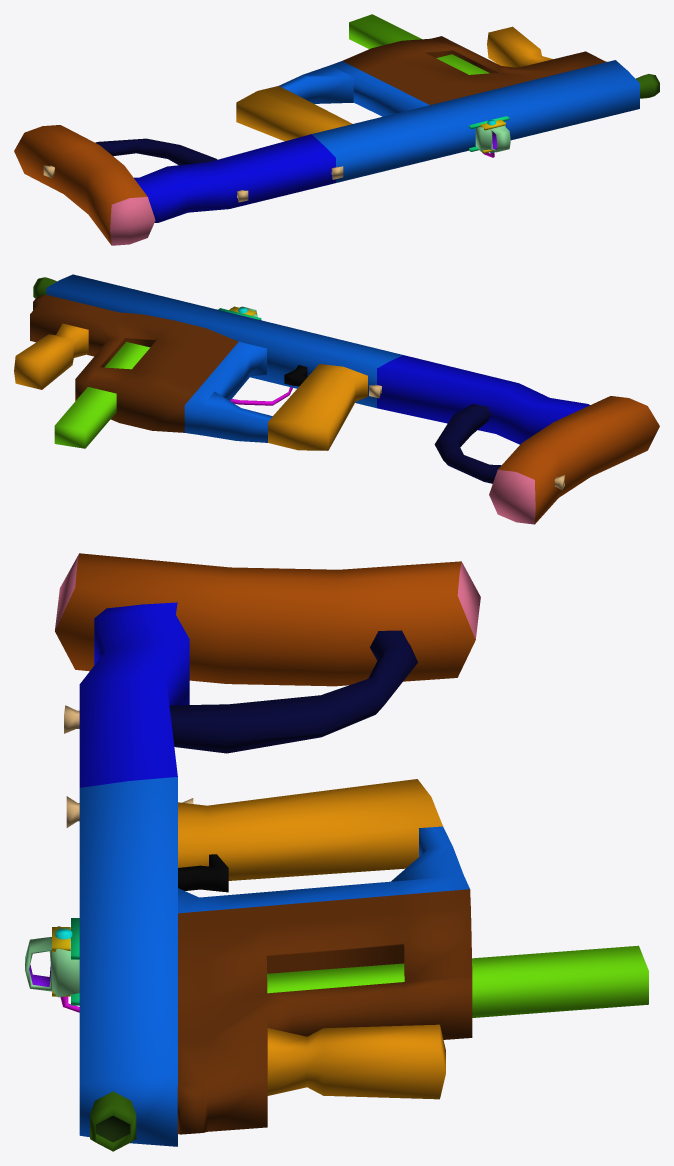
The model's file is Salvage_Machinegun.gltf.
The picture shows the model from 3 angles, top to bottom: view 1: azimuth 30°, elevation 25°; view 2: azimuth 150°, elevation 25°; view 3: azimuth 270°, elevation 25°; orthographic projection. The views are drawn at different scales.
Parts seen in each view (by area): view 1: Salvage Machinegun_lowpoly; view 2: Salvage Machinegun_lowpoly; view 3: Salvage Machinegun_lowpoly.
Part boxes in pixels (x1,y1,x2,y2): Salvage Machinegun_lowpoly: (14,14,659,245); Salvage Machinegun_lowpoly: (14,274,659,524); Salvage Machinegun_lowpoly: (25,553,648,1151).
Size of the model in its own units: 0.3125 by 0.0328 by 0.151.
